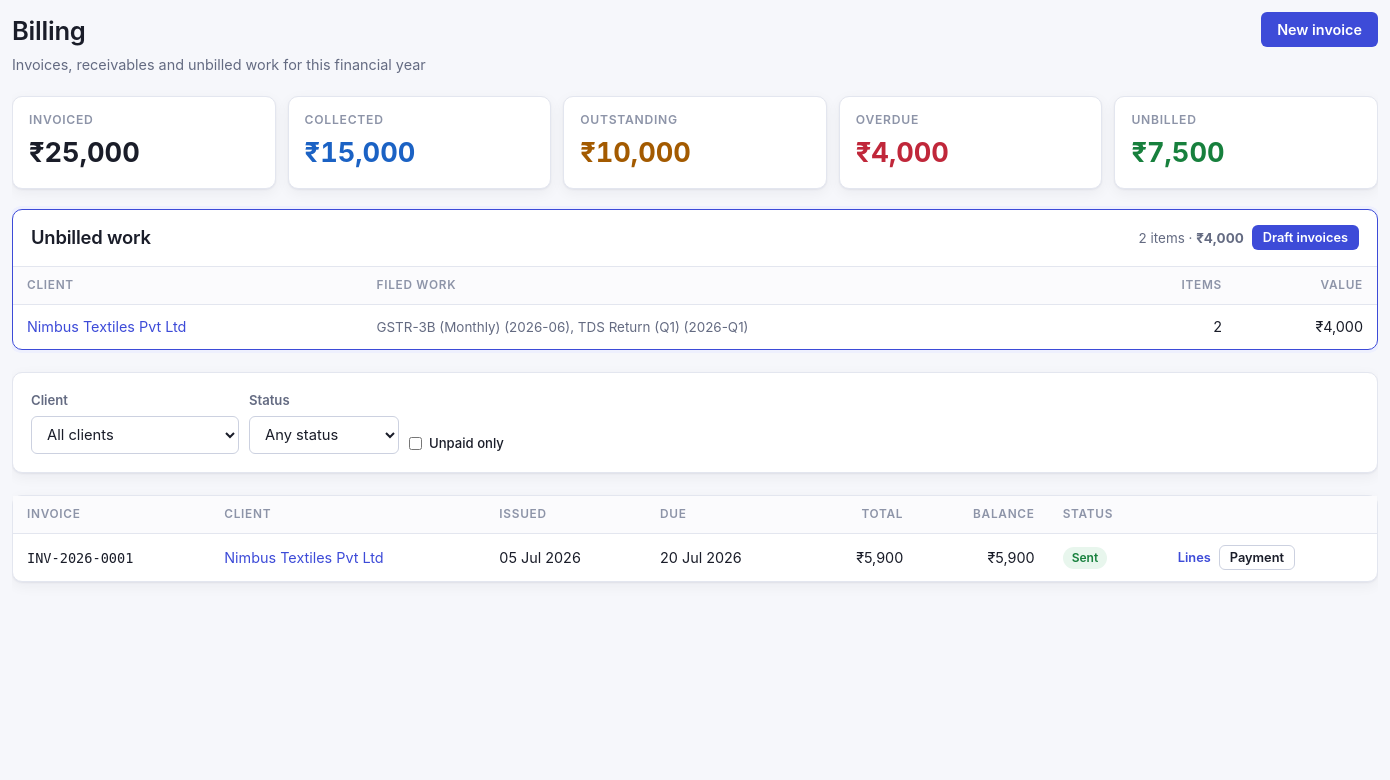
Scenario: Billing › drafts invoices from unbilled work and reports the value
Click the button "Draft invoices": (1305, 238) [1252,225,1359,250]
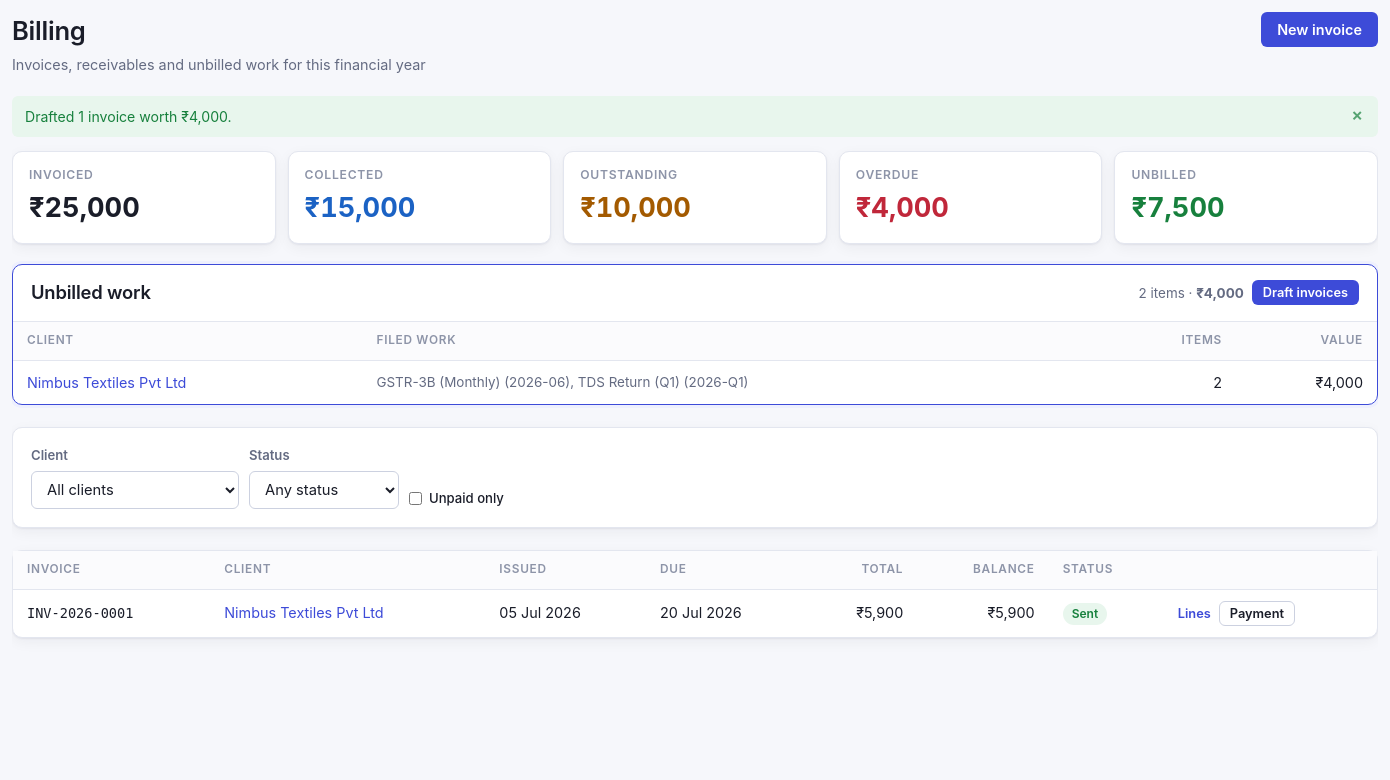
Check: the text "Drafted 1 invoice worth ₹4,000." is shown, box [25,106,232,127]
